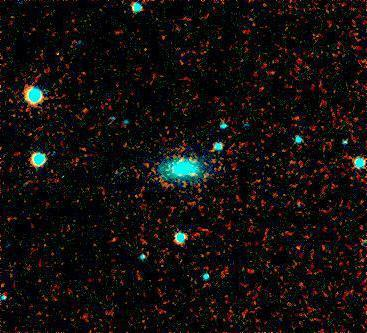star: (179, 160, 209, 190)
